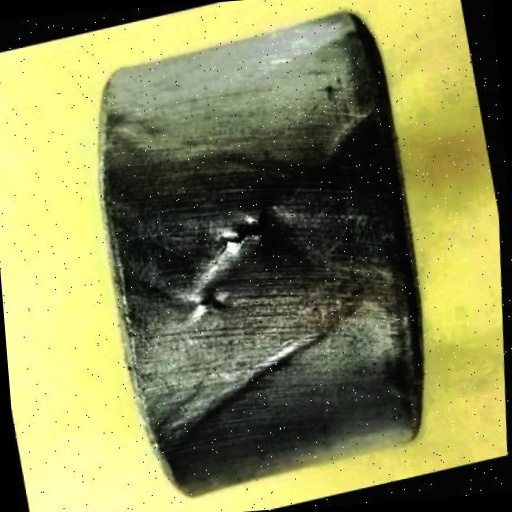crack: (212, 199, 286, 254), (191, 291, 217, 311)
